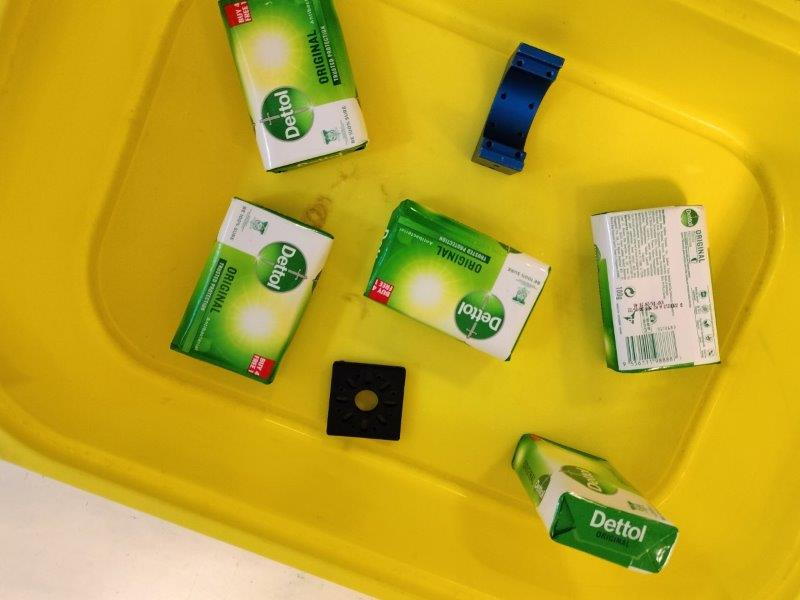Dettol: (170, 196, 333, 386), (362, 200, 551, 362), (216, 1, 370, 174), (512, 432, 679, 575), (590, 204, 720, 371)
